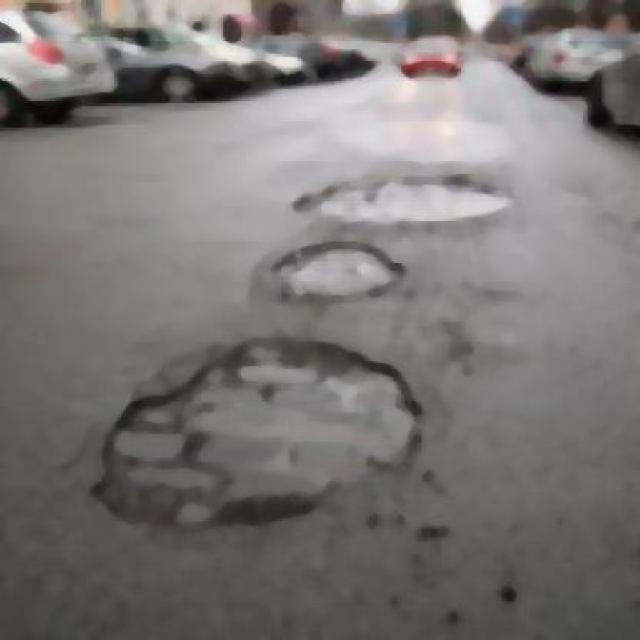Pothole: (92, 338, 421, 528), (292, 172, 511, 223), (271, 241, 405, 301)
